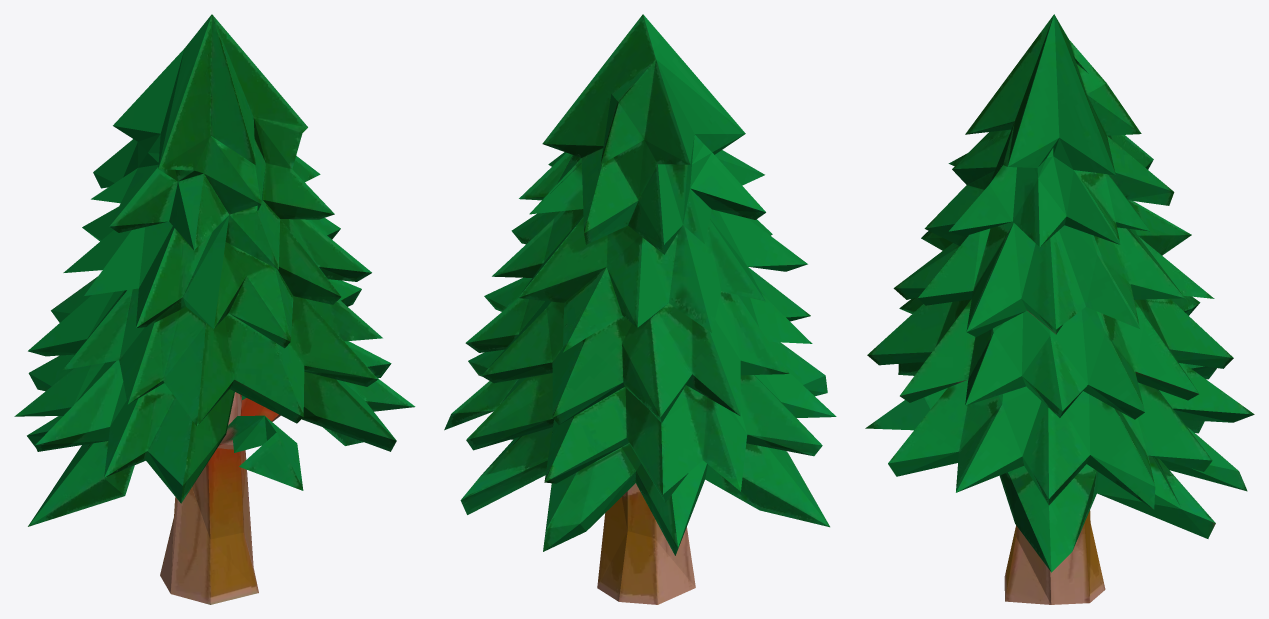
File: coniferous_tree_2.glb
3 views of the same model, side by side, from view 1: azimuth 30°, elevation 25°; view 2: azimuth 150°, elevation 25°; view 3: azimuth 270°, elevation 25° (orthographic).
Size of the model in its own units: 1.32 by 1.97 by 1.21.
Materials: 1 (1 with a texture image).
